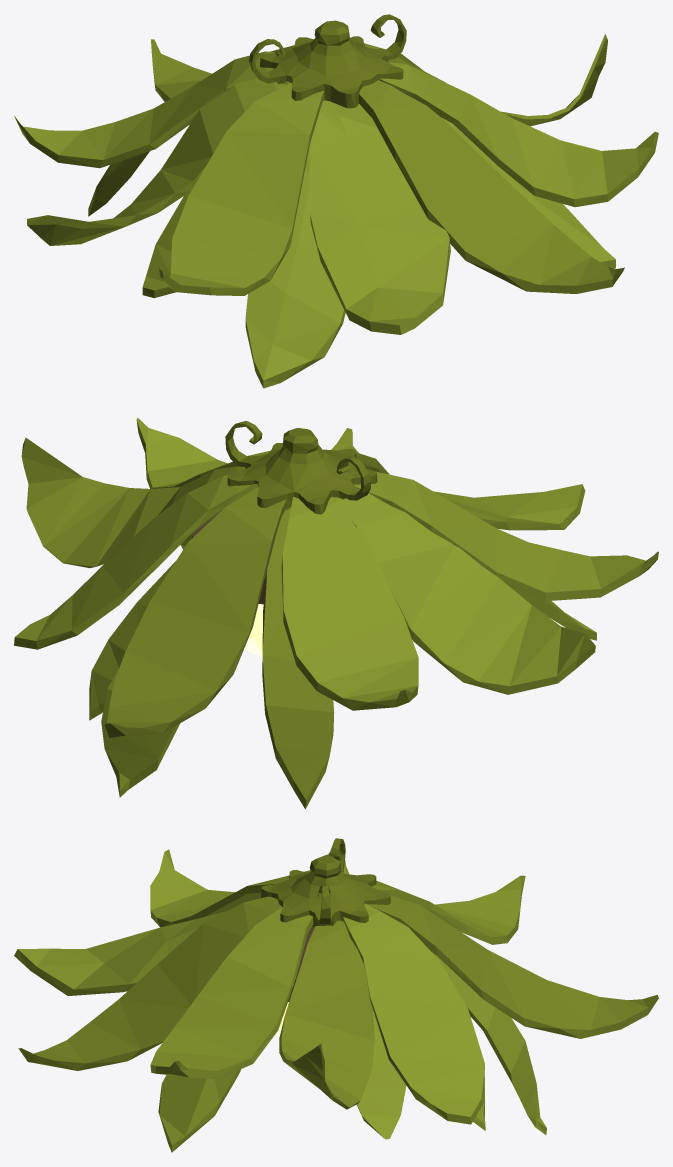
Rendered from Ceiling_Lamp_001.fbx.
3 views of the same model, one above another, from view 1: azimuth 30°, elevation 25°; view 2: azimuth 150°, elevation 25°; view 3: azimuth 270°, elevation 25° (orthographic). The views are drawn at different scales.
Visible parts, largest first — view 1: Ceiling_Lamp_001; view 2: Ceiling_Lamp_001; view 3: Ceiling_Lamp_001.
Part boxes in pixels (x1,y1,x2,y2): Ceiling_Lamp_001: (14,14,658,388); Ceiling_Lamp_001: (14,417,658,809); Ceiling_Lamp_001: (14,838,658,1152).
Bounding box in the file's own units: 221 × 104 × 240.
